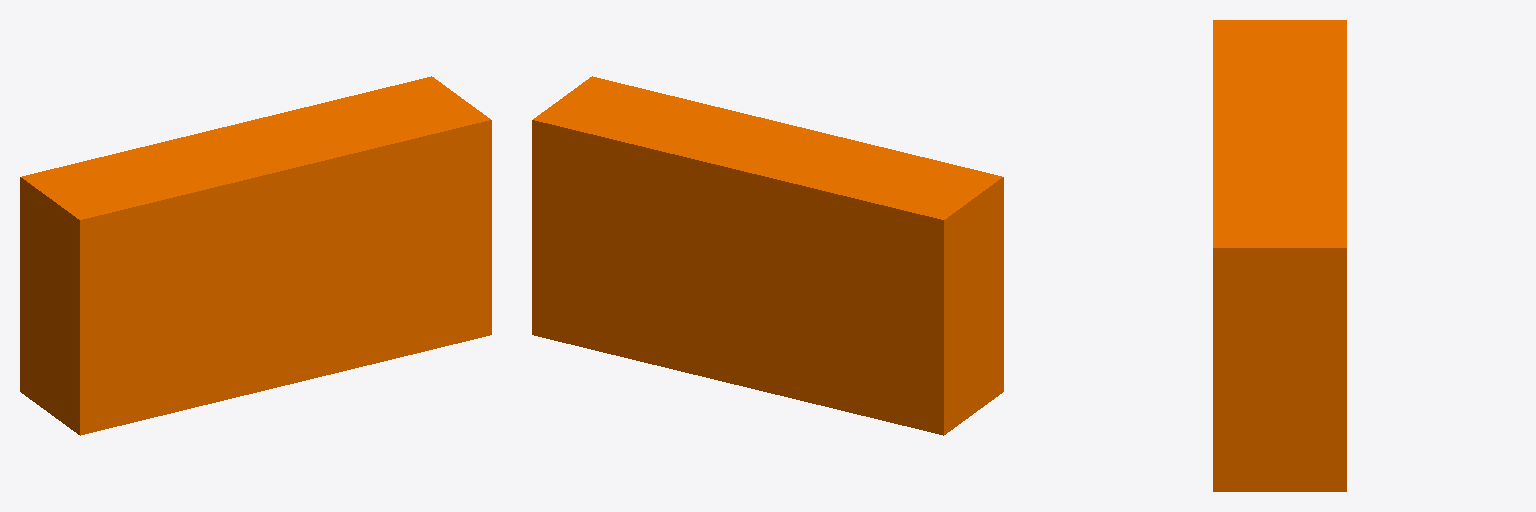
robot.urdf — block_2:
<?xml version="1.0"?>
<robot name="block_2">
  <link name="block_2_base_link">
    <contact>
      <lateral_friction value="0.4"/>
      <spinning_friction value="10.0"/>
    </contact>
    <inertial>
      <origin rpy="0 0 0" xyz="0 0 0"/>
      <mass value="1"/>
      <inertia ixx="1" ixy="0" ixz="0" iyy="1" iyz="0" izz="1"/>
    </inertial>
    <visual>
      <origin rpy="0 0 0" xyz="0.0 0.0 0.0"/>
      <geometry>
        <box size="0.2 0.05 0.1"/>
      </geometry>
      <material name="blockmat">
        <color rgba="1.0 0.5 0.0 1"/>
      </material>
    </visual>
    <collision>
      <origin rpy="0 0 0" xyz="0.0 0.0 0.0"/>
      <geometry>
        <box size="0.2 0.05 0.1"/>
      </geometry>
    </collision>
  </link>
</robot>

--- Facts derived from the render (not from the file) ---
Views: 3 orthographic renders of the robot side by side, from view 1: azimuth 30°, elevation 25°; view 2: azimuth 150°, elevation 25°; view 3: azimuth 270°, elevation 25°.
Robot: block_2 — 1 links, 0 joints (none); root link block_2_base_link; default pose: every joint at zero.
Links seen in each view (by area): view 1: block_2_base_link; view 2: block_2_base_link; view 3: block_2_base_link.
Boxes of the visible links, <box> form: block_2_base_link: <box>20,76,491,435</box>; block_2_base_link: <box>532,76,1003,435</box>; block_2_base_link: <box>1213,20,1346,491</box>.
Bounding box of the posed robot: 0.2 × 0.05 × 0.1 m (x, y, z).
Geometry: primitives only (box / cylinder / sphere), no mesh files.
